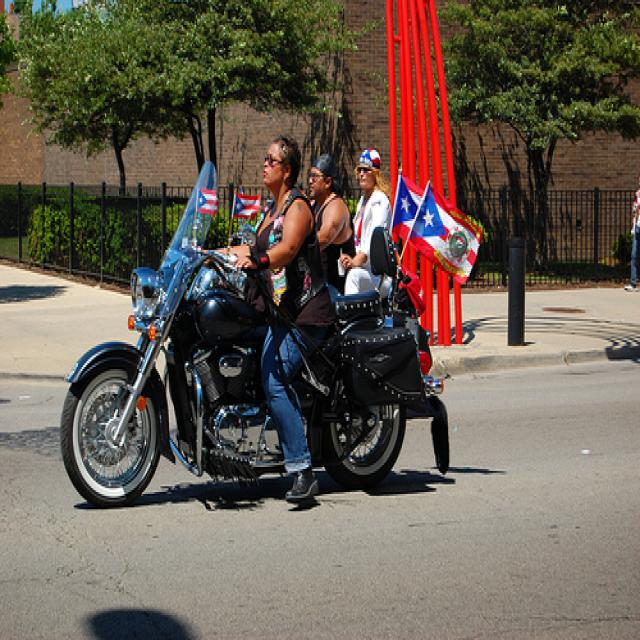motor: (64, 166, 452, 504)
